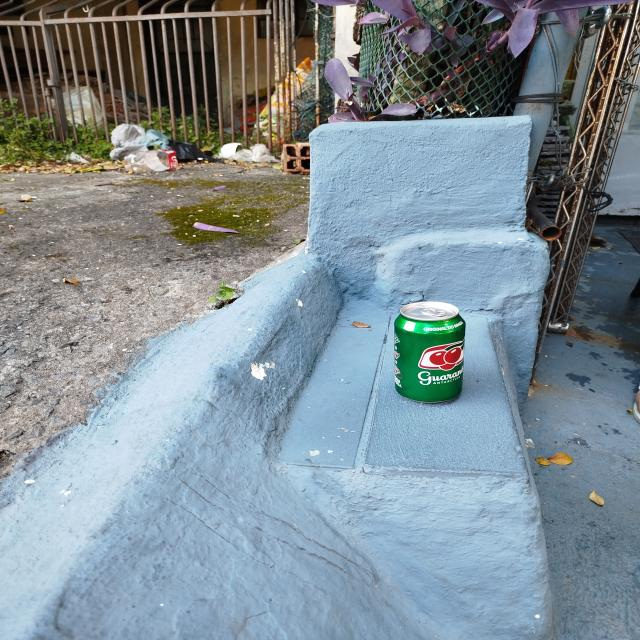Guarana: (393, 302, 465, 404)
